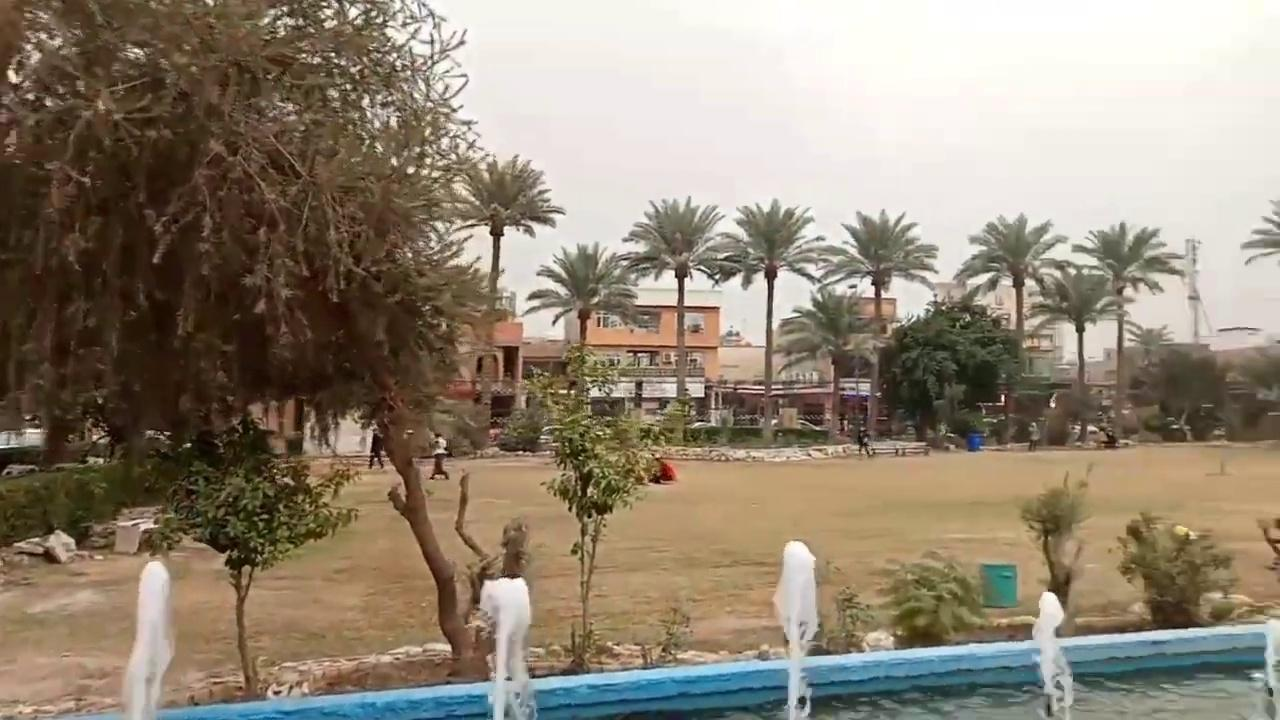fountain: (66, 538, 1278, 718), (118, 559, 177, 717), (770, 538, 821, 716), (477, 573, 537, 718), (1030, 590, 1074, 714)
person: (427, 431, 449, 480), (647, 453, 676, 483), (367, 427, 385, 470), (857, 426, 874, 456), (1027, 421, 1040, 451)
tree: (0, 0, 510, 660), (144, 412, 361, 697), (519, 341, 665, 671), (434, 151, 565, 438), (619, 194, 736, 438), (817, 207, 939, 435), (715, 197, 825, 443), (952, 211, 1068, 441), (1071, 219, 1185, 436), (521, 240, 642, 413), (888, 297, 1015, 446), (1025, 260, 1122, 444), (773, 285, 880, 443), (1108, 509, 1238, 628), (817, 207, 939, 318), (1018, 462, 1094, 632), (869, 549, 987, 648), (1131, 345, 1233, 441), (887, 316, 960, 442), (1172, 236, 1213, 343), (1239, 197, 1279, 268), (1123, 321, 1173, 366)
